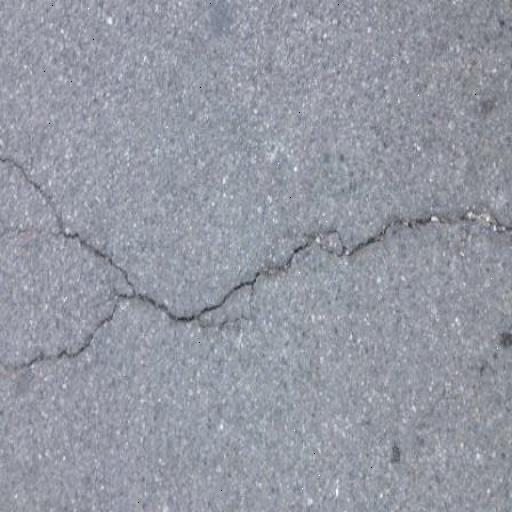spalling: (7, 134, 500, 348), (10, 285, 132, 385)
